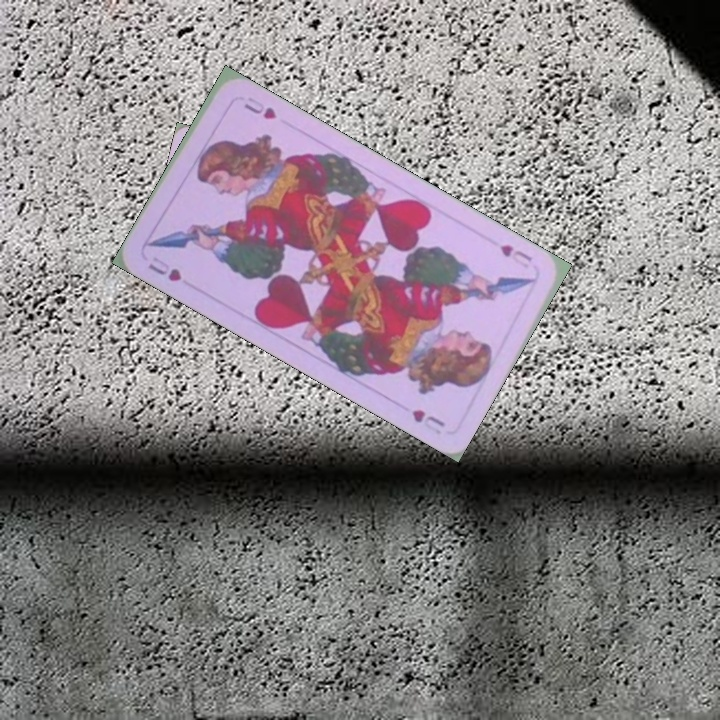HU: (144, 252, 184, 285), (496, 240, 535, 271)
